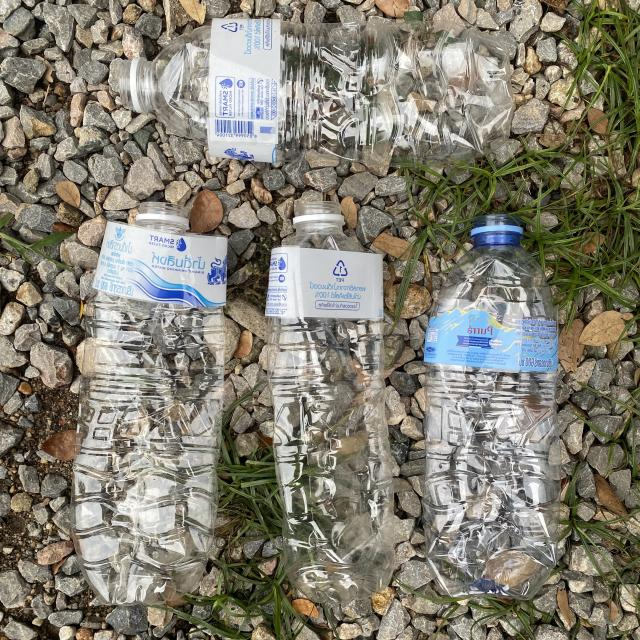plastik: (72, 202, 227, 605), (117, 20, 514, 169), (423, 215, 561, 600), (265, 202, 394, 602)
